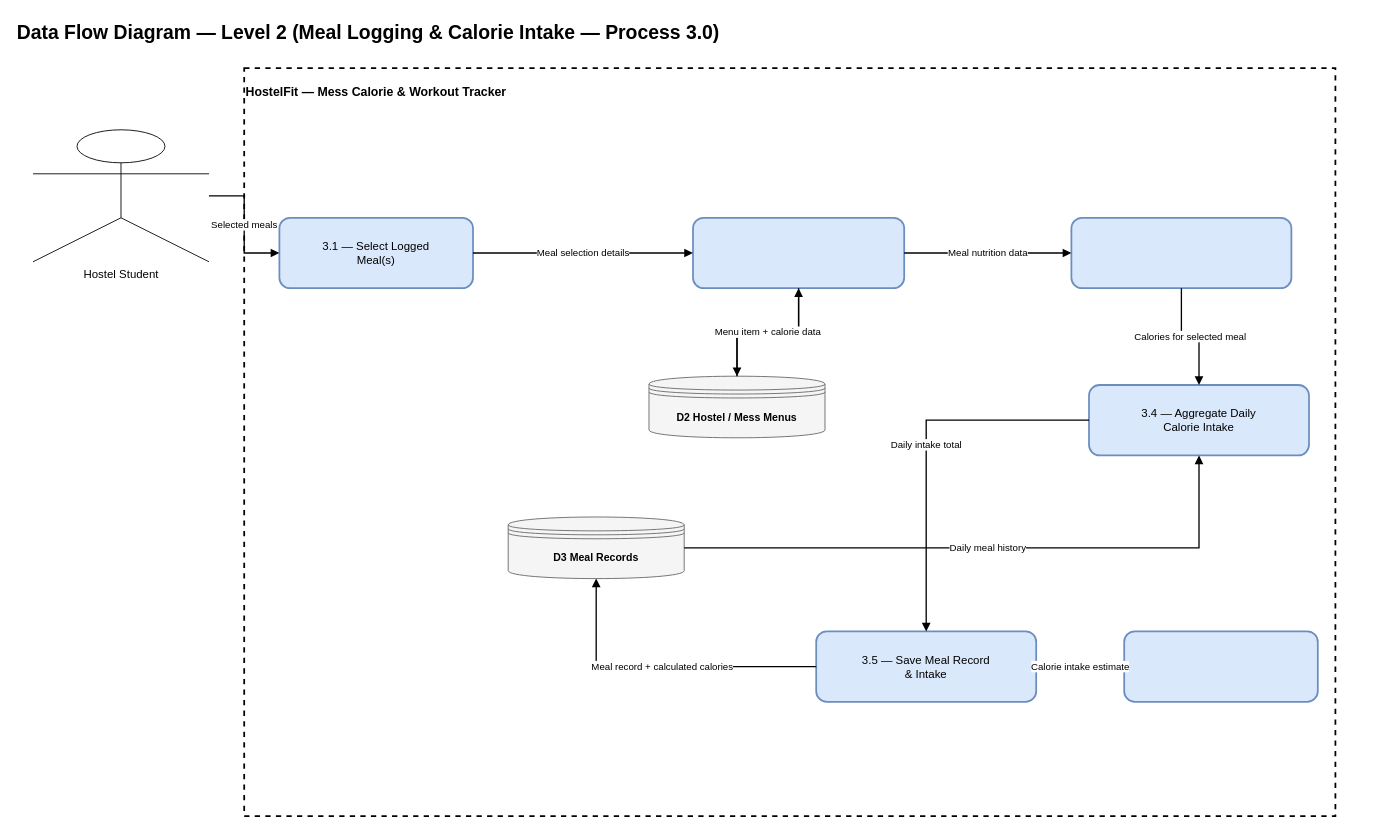
The diagram is 1385 pixels wide and 832 high, and some of its shapes have lost their labels. Each missing label, with the box of its shape:
3.2 — Retrieve Menu & Nutrition Details: (692, 216, 905, 289)
3.3 — Calculate Calories per Selected Meal: (1070, 216, 1292, 289)
5.0 Analyze Daily Calorie Balance: (1123, 630, 1318, 702)
